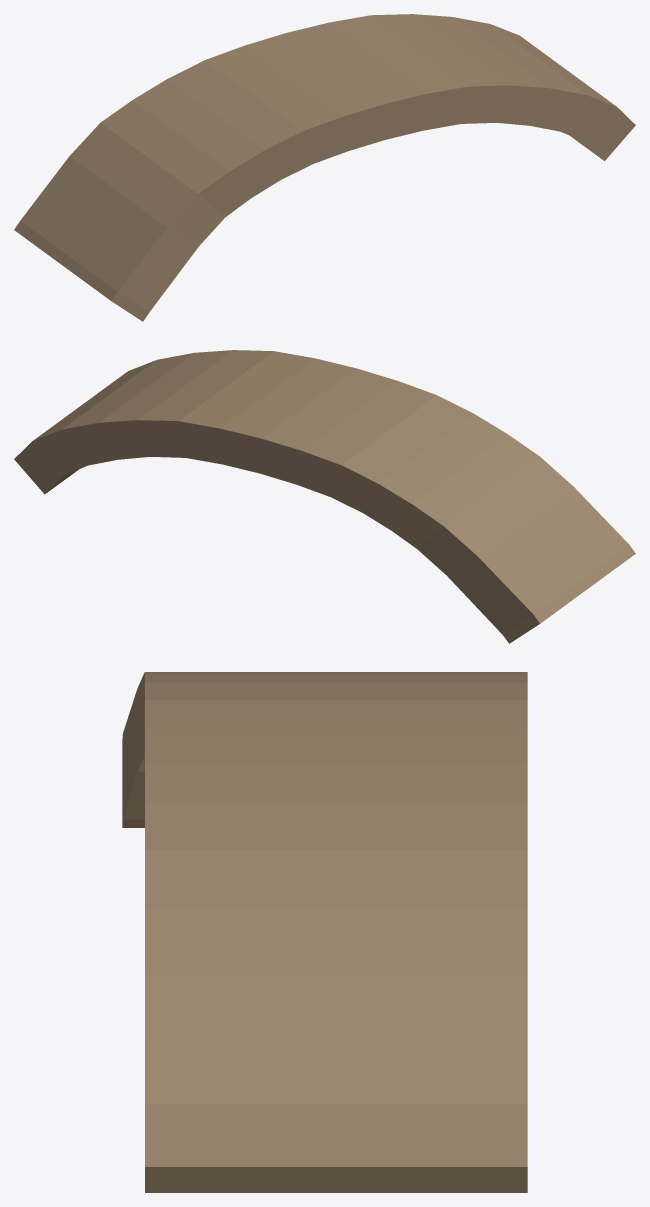
File: 1.Bridge.003.fbx
3 renders of one model, top to bottom at view 1: azimuth 30°, elevation 25°; view 2: azimuth 150°, elevation 25°; view 3: azimuth 270°, elevation 25°, orthographic. The views are drawn at different scales.
Parts seen in each view (by area): view 1: 1.Bridge.003; view 2: 1.Bridge.003; view 3: 1.Bridge.003.
Boxes of the visible parts, x1,y1,x2,y2 form: 1.Bridge.003: (14,14,635,321); 1.Bridge.003: (14,350,635,643); 1.Bridge.003: (122,672,527,1192).
Size of the model in its own units: 630 by 174 by 212.
